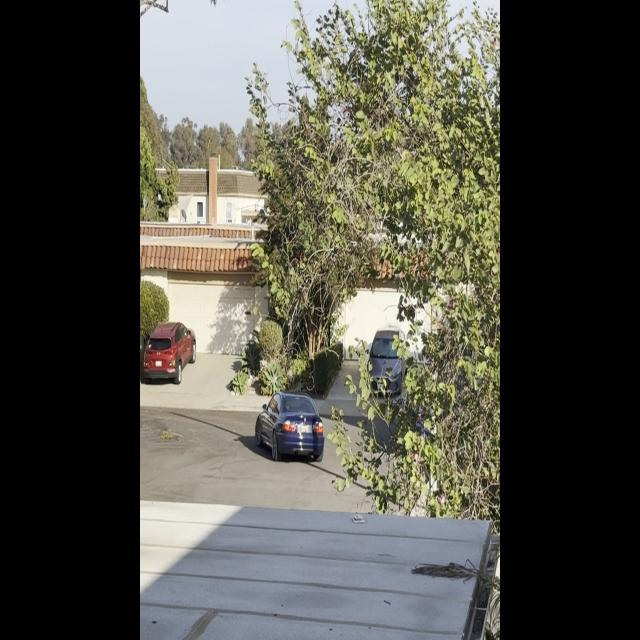Carbeetle: (253, 384, 327, 471)
Civilian: (140, 318, 199, 383), (363, 320, 409, 403)
